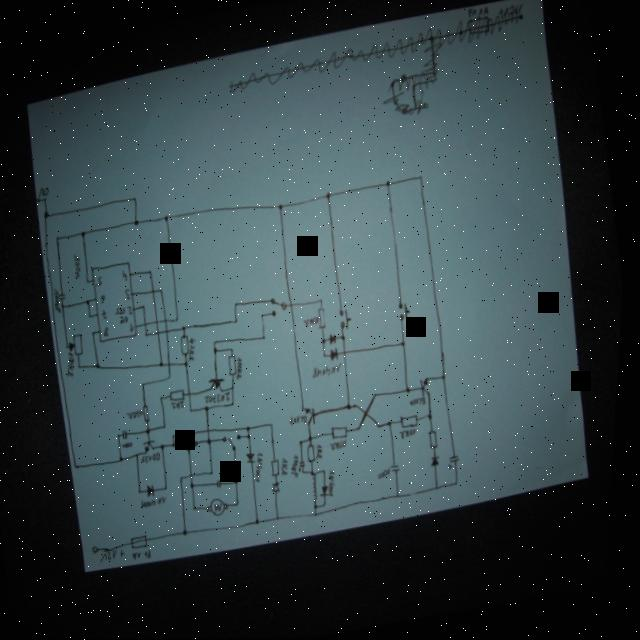capacitor: (452, 455, 467, 471), (302, 461, 313, 473), (396, 463, 407, 474), (127, 428, 135, 441), (61, 293, 71, 302), (221, 479, 229, 490)
crossover: (368, 409, 375, 418), (346, 350, 353, 357), (154, 288, 160, 296), (171, 361, 177, 368), (160, 330, 166, 337), (167, 317, 173, 324), (147, 321, 153, 328), (292, 302, 298, 309), (211, 428, 217, 435), (169, 329, 174, 336), (192, 391, 197, 398), (194, 473, 199, 479), (159, 319, 164, 325)
diode: (250, 452, 263, 466), (324, 484, 337, 498), (333, 347, 344, 362), (151, 483, 162, 498), (435, 455, 447, 468), (277, 482, 288, 495), (332, 333, 342, 346)
inductor: (315, 476, 327, 504)
junction: (409, 387, 417, 396), (46, 210, 53, 220), (327, 192, 334, 201), (344, 333, 351, 342), (166, 214, 173, 222), (136, 219, 143, 227), (150, 427, 157, 435), (123, 456, 131, 463), (351, 403, 358, 411), (432, 414, 440, 421), (239, 478, 246, 486), (216, 348, 224, 355), (404, 341, 411, 349), (439, 485, 447, 492), (188, 529, 195, 537), (83, 230, 90, 238), (134, 196, 141, 203), (163, 361, 170, 368), (209, 406, 216, 413), (357, 403, 364, 410), (316, 470, 323, 477), (195, 482, 202, 489), (165, 444, 172, 451), (325, 338, 332, 345), (445, 375, 452, 382), (78, 463, 85, 470), (100, 362, 105, 371), (281, 204, 287, 211), (148, 332, 154, 339), (144, 304, 150, 311), (162, 288, 168, 295), (178, 317, 184, 324), (89, 299, 95, 306), (145, 382, 151, 389), (164, 395, 170, 402), (188, 360, 194, 367), (185, 325, 191, 332), (176, 433, 182, 440), (392, 421, 398, 428), (378, 393, 384, 400), (328, 501, 334, 508), (261, 518, 267, 525), (251, 425, 257, 432), (274, 422, 280, 429), (212, 439, 218, 446), (215, 470, 221, 477), (241, 500, 247, 507), (143, 488, 149, 495), (237, 319, 243, 326), (234, 347, 240, 354), (216, 340, 222, 347), (234, 385, 240, 392), (235, 401, 241, 408), (421, 174, 426, 182), (327, 352, 332, 360), (95, 330, 101, 336), (327, 468, 333, 474), (388, 181, 393, 188), (91, 313, 96, 320), (172, 374, 177, 381), (194, 407, 199, 414), (122, 432, 127, 439), (362, 426, 367, 433), (382, 424, 387, 431), (305, 440, 310, 447), (314, 436, 319, 443), (320, 511, 325, 518), (282, 515, 287, 522), (252, 433, 257, 440), (199, 505, 204, 512), (177, 442, 182, 449), (185, 476, 190, 483), (140, 453, 145, 460), (266, 334, 271, 341), (264, 313, 269, 320), (238, 301, 243, 308), (323, 298, 328, 305), (460, 481, 465, 488), (402, 493, 407, 500), (89, 278, 94, 285), (58, 235, 63, 242), (151, 269, 156, 275), (167, 425, 173, 430), (320, 504, 325, 510), (64, 305, 69, 311), (46, 197, 51, 202), (307, 470, 312, 475), (170, 487, 175, 492), (82, 365, 86, 369)
resistor: (67, 332, 90, 359), (404, 413, 426, 430), (229, 354, 244, 377), (335, 424, 355, 441), (320, 307, 333, 331), (183, 335, 196, 357), (173, 389, 191, 404), (433, 430, 445, 450), (311, 444, 323, 464), (276, 459, 288, 478), (146, 404, 156, 424)
switch: (226, 433, 250, 455), (272, 295, 294, 319), (182, 436, 207, 456), (341, 308, 358, 332), (400, 302, 416, 322)
terminal: (97, 545, 107, 554), (38, 197, 44, 204)
text: (315, 362, 349, 380), (256, 453, 274, 484), (146, 495, 175, 511), (67, 351, 83, 379), (331, 469, 346, 498), (106, 548, 133, 564), (210, 392, 237, 406), (189, 337, 204, 362), (74, 253, 88, 279), (294, 455, 308, 480), (117, 305, 134, 325), (238, 356, 251, 382), (55, 288, 67, 315), (293, 414, 315, 428), (146, 452, 168, 465), (404, 427, 423, 441), (334, 439, 354, 452), (382, 467, 399, 481), (307, 316, 325, 328), (319, 443, 331, 461), (131, 410, 150, 421), (285, 458, 296, 477), (414, 396, 431, 408), (40, 186, 53, 199), (176, 401, 191, 412), (138, 550, 150, 561), (149, 549, 160, 560), (98, 275, 108, 287), (104, 308, 113, 321), (124, 270, 133, 283), (127, 288, 136, 301), (107, 326, 115, 338), (132, 322, 140, 334), (127, 442, 139, 450), (103, 294, 111, 305), (130, 305, 138, 316)
transistor: (305, 405, 323, 428), (212, 377, 231, 395), (422, 378, 436, 397), (148, 439, 162, 456)
